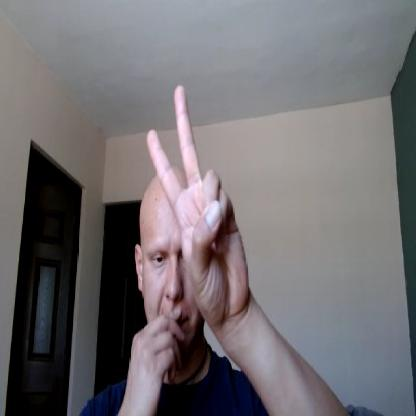V: (146, 83, 248, 320)
